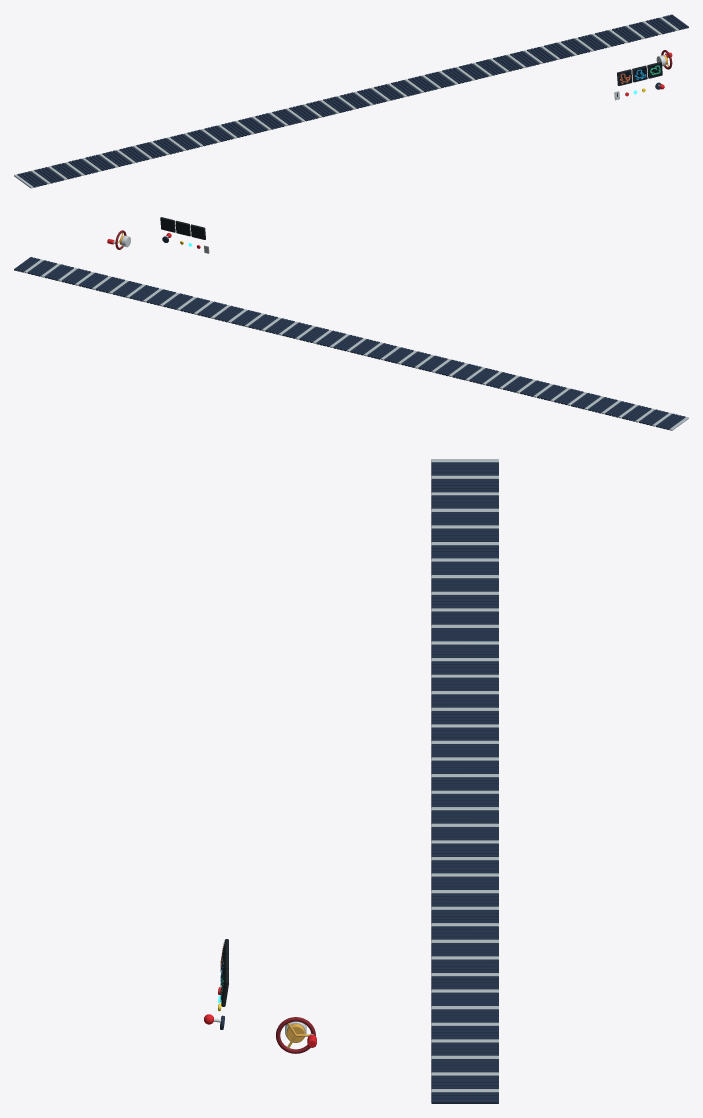
Rendered from machine.glb.
The picture shows the model from 3 angles, top to bottom: view 1: azimuth 30°, elevation 25°; view 2: azimuth 150°, elevation 25°; view 3: azimuth 270°, elevation 25°; orthographic projection. The views are drawn at different scales.
Bounding box in the file's own units: 30.78 × 1.16 × 5.98.
13 materials, 3 textured.
